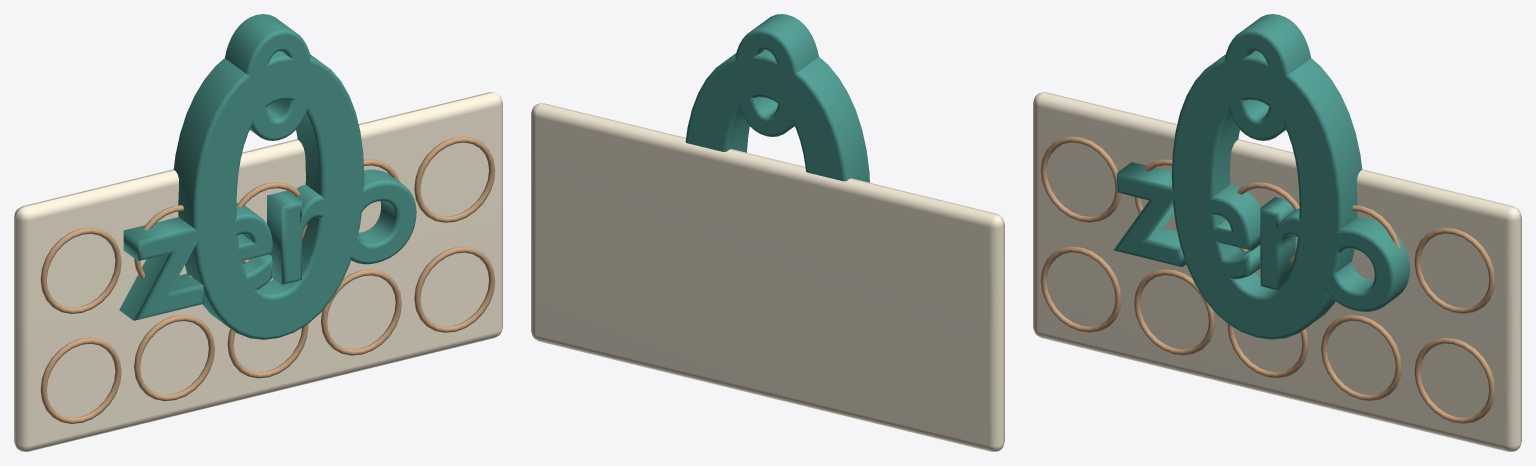
File: number-0.glb
3 views of the same model, side by side, from view 1: azimuth 30°, elevation 25°; view 2: azimuth 150°, elevation 25°; view 3: azimuth 330°, elevation 25° (orthographic). The views are drawn at different scales.
Visible parts, largest first — view 1: ten frame tray, number solid, number word, counting numeral, counting slot.006, counting slot.004, counting slot.009, counting slot, counting slot.005, counting slot.008, counting slot.007, counting slot.002; view 2: ten frame tray, number solid, counting numeral; view 3: ten frame tray, number solid, number word, counting numeral, counting slot.008, counting slot.005, counting slot.004, counting slot.009, counting slot, counting slot.006, counting slot.007, counting slot.002.
Part boxes in pixels (x1=…): ten frame tray: x1=14, y1=92, x2=502, y2=451; number solid: x1=173, y1=51, x2=364, y2=339; number word: x1=119, y1=169, x2=416, y2=320; counting numeral: x1=225, y1=14, x2=310, y2=140; counting slot.006: x1=134, y1=315, x2=214, y2=401; counting slot.004: x1=414, y1=136, x2=495, y2=222; counting slot.009: x1=414, y1=246, x2=495, y2=332; counting slot: x1=40, y1=227, x2=121, y2=313; counting slot.005: x1=40, y1=337, x2=121, y2=423; counting slot.008: x1=321, y1=269, x2=401, y2=355; counting slot.007: x1=227, y1=324, x2=308, y2=378; counting slot.002: x1=237, y1=182, x2=307, y2=265; ten frame tray: x1=531, y1=103, x2=1004, y2=451; number solid: x1=685, y1=50, x2=869, y2=182; counting numeral: x1=735, y1=14, x2=818, y2=136; ten frame tray: x1=1033, y1=92, x2=1521, y2=451; number solid: x1=1171, y1=51, x2=1362, y2=339; number word: x1=1113, y1=162, x2=1409, y2=311; counting numeral: x1=1225, y1=14, x2=1310, y2=140; counting slot.008: x1=1321, y1=315, x2=1401, y2=401; counting slot.005: x1=1040, y1=246, x2=1121, y2=332; counting slot.004: x1=1414, y1=227, x2=1495, y2=313; counting slot.009: x1=1414, y1=337, x2=1495, y2=423; counting slot: x1=1040, y1=136, x2=1120, y2=222; counting slot.006: x1=1134, y1=269, x2=1214, y2=355; counting slot.007: x1=1227, y1=324, x2=1308, y2=378; counting slot.002: x1=1237, y1=182, x2=1299, y2=264.
Size of the model in its own units: 2.08 by 1.55 by 0.2.
